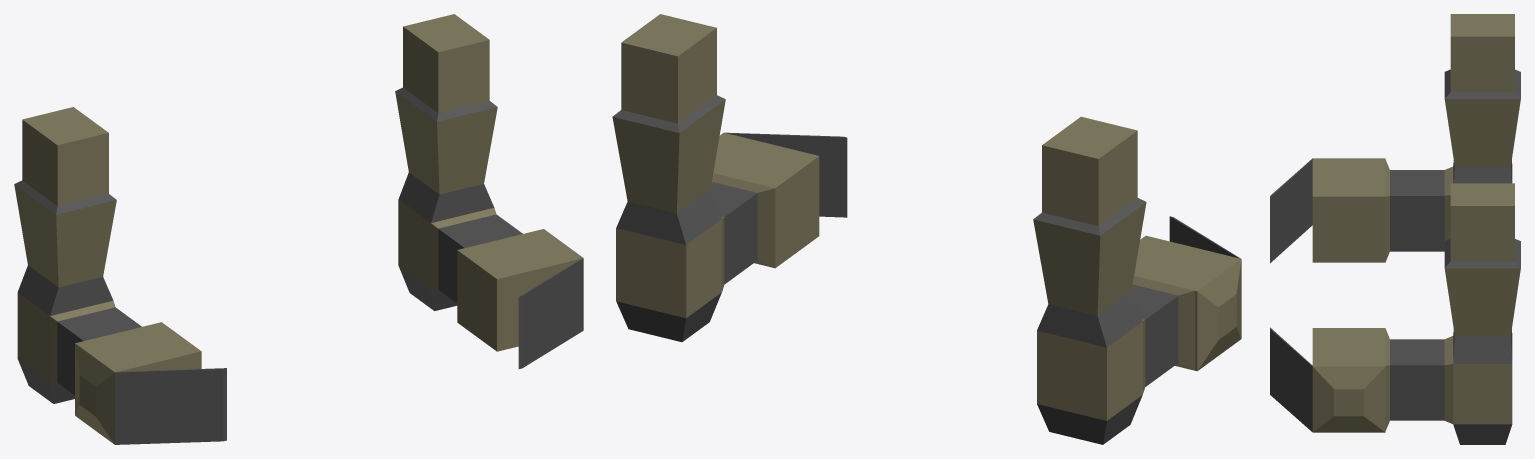
Rendered from arm3.obj.
3 renders of one model, left to right at view 1: azimuth 30°, elevation 25°; view 2: azimuth 150°, elevation 25°; view 3: azimuth 270°, elevation 25°, orthographic. The views are drawn at different scales.
Parts seen in each view (by area): view 1: MechArm3; view 2: MechArm3; view 3: MechArm3.
Part boxes in pixels (x1,y1,x2,y2): MechArm3: (14,14,583,444); MechArm3: (612,14,1241,444); MechArm3: (1270,14,1520,444).
Size of the model in its own units: 8.14 by 4.23 by 4.02.
Materials: 1 (1 with a texture image).
